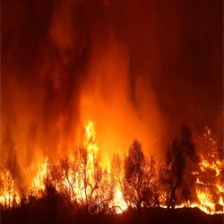fire: (1, 125, 224, 218)
smoke: (24, 8, 134, 109)
